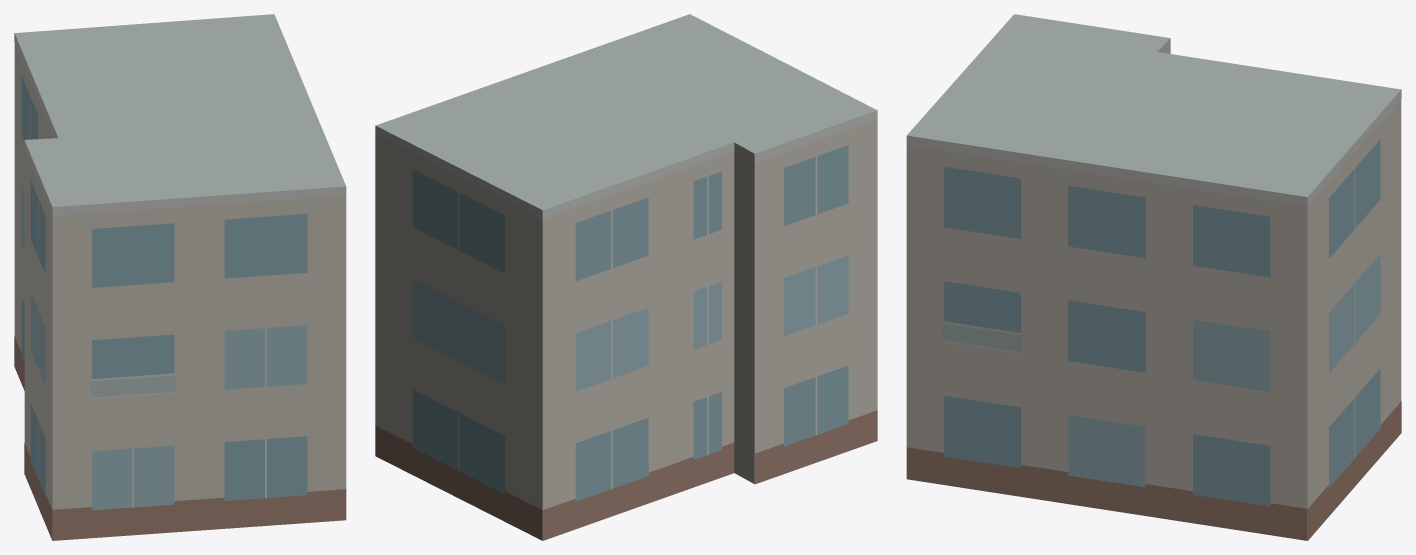
File: survey-upis-32493550.glb
3 renders of one model, left to right at view 1: azimuth 30°, elevation 25°; view 2: azimuth 150°, elevation 25°; view 3: azimuth 270°, elevation 25°, orthographic. The views are drawn at different scales.
Parts seen in each view (by area): view 1: survey-upis-32493550.tmp; view 2: survey-upis-32493550.tmp; view 3: survey-upis-32493550.tmp.
Part boxes in pixels (box(x1,y1,x2,y2)): survey-upis-32493550.tmp: box(14, 14, 346, 540); survey-upis-32493550.tmp: box(375, 14, 877, 540); survey-upis-32493550.tmp: box(906, 14, 1401, 540).
Bounding box in the file's own units: 10.41 × 9.1 × 11.88.
